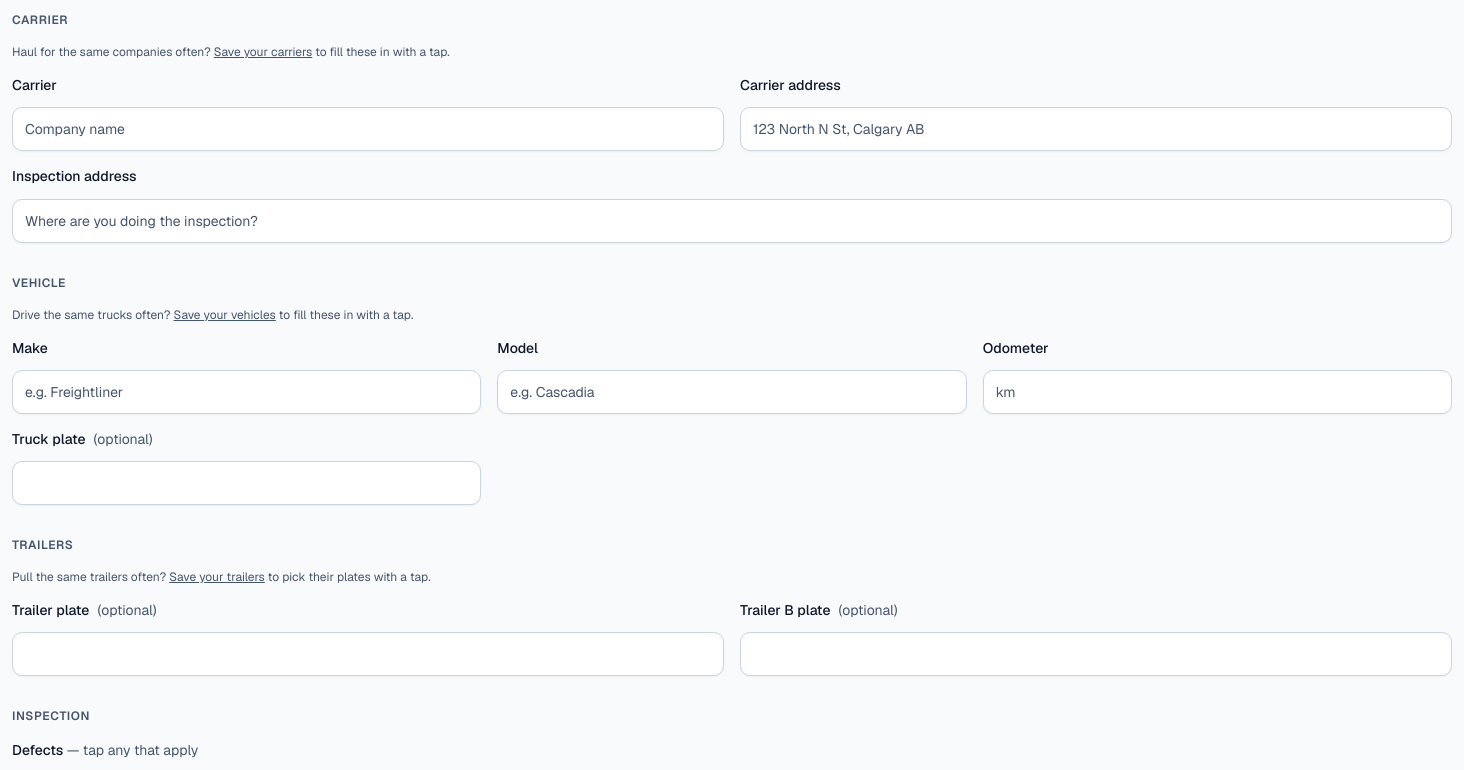
Test: AddTripForm › clears an error as soon as the value is fixed
Click the field labelled "Carrier": click(368, 129) [12, 107, 724, 151]
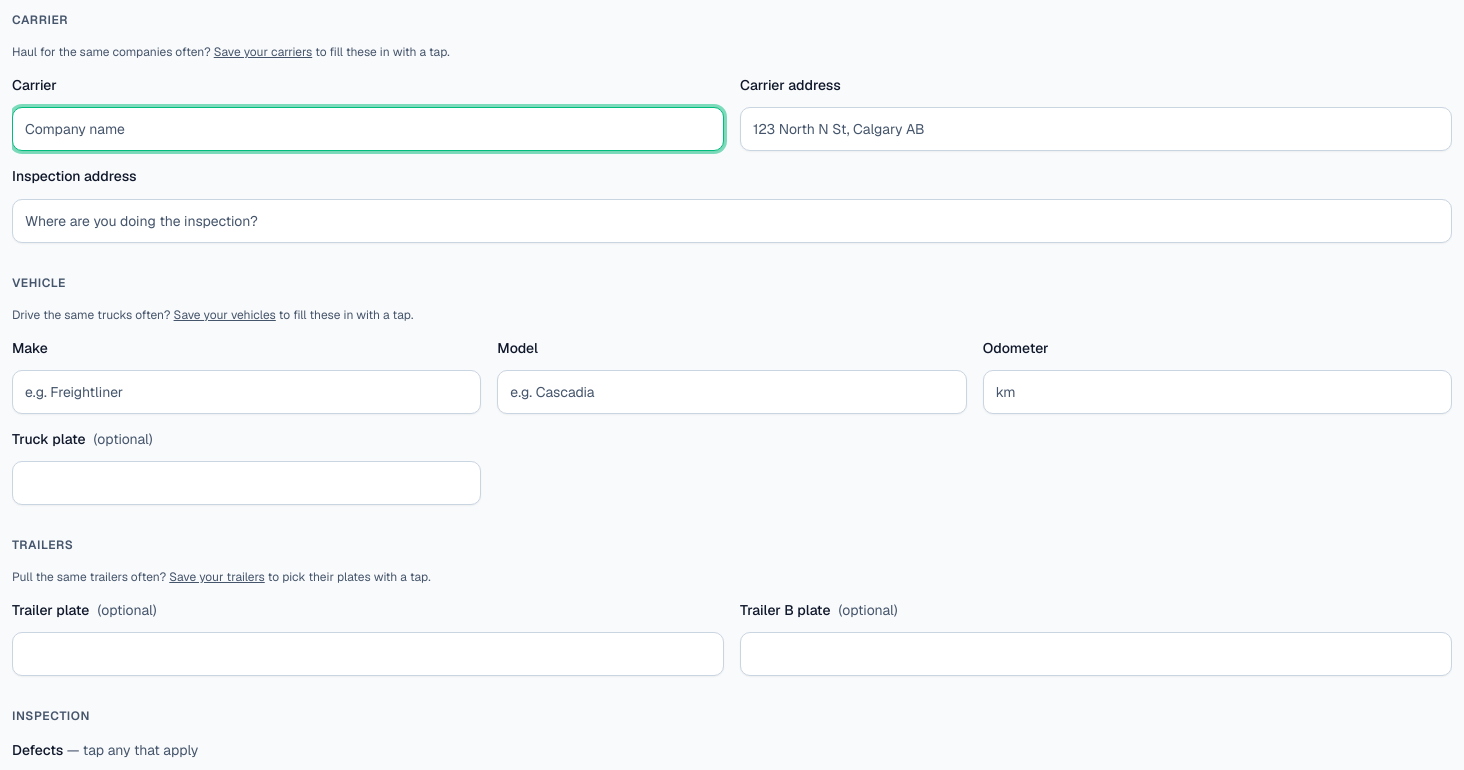
Press Tab
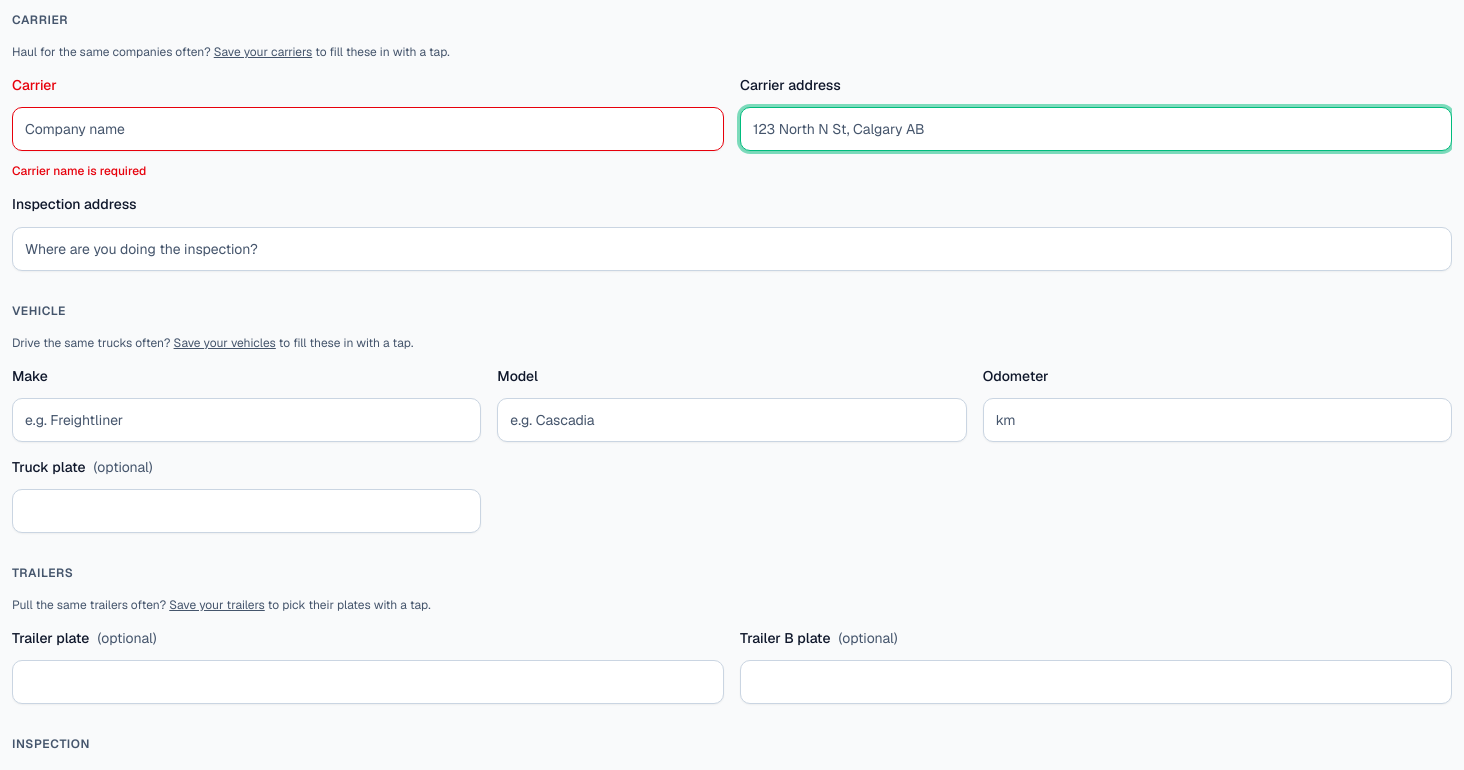
Now the text "Carrier name is required" is shown, box [12, 163, 146, 179]
In the field labelled "Carrier": (368, 129) [12, 107, 724, 151], type "A"
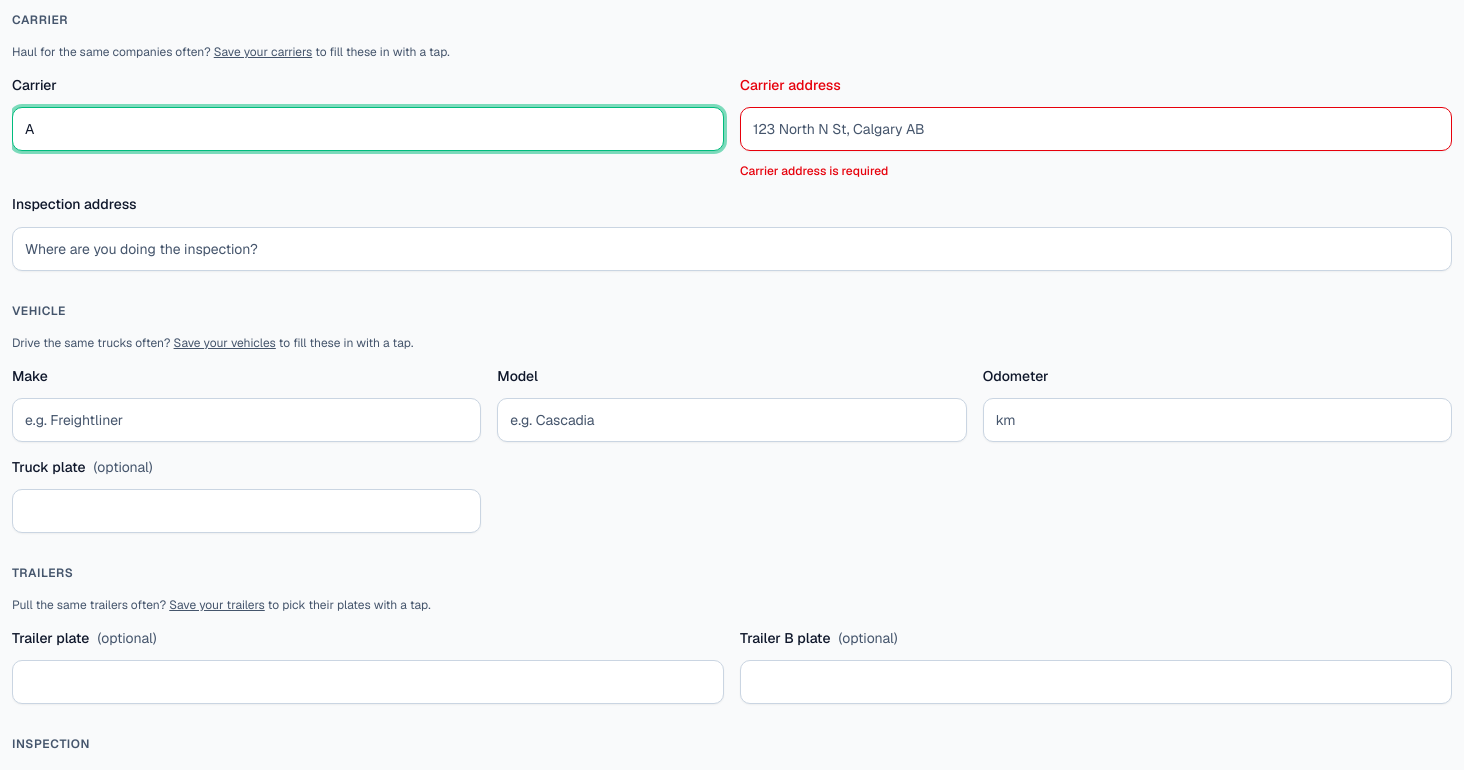
Now the text "Carrier name is required" is gone
